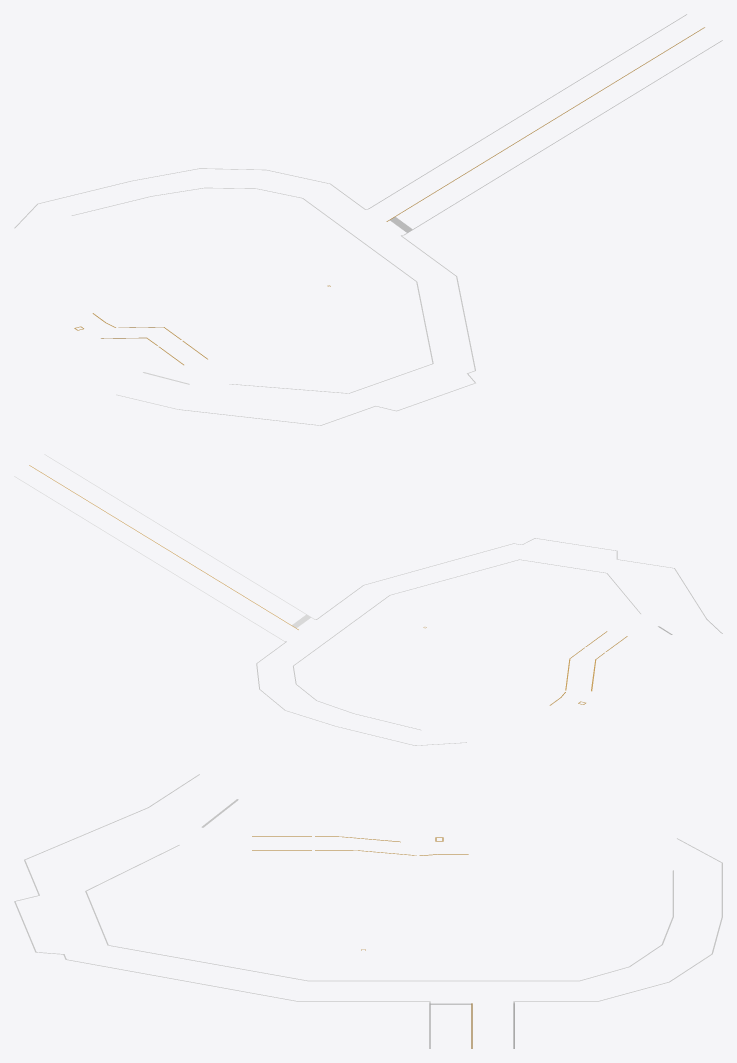
The model's file is kd_stage_13612f_3_6_bounded.glb.
3 renders of one model, top to bottom at view 1: azimuth 30°, elevation 25°; view 2: azimuth 150°, elevation 25°; view 3: azimuth 270°, elevation 25°, orthographic. The views are drawn at different scales.
Visible parts, largest first — view 1: kd_stage_13612f_3_6_bounded; view 2: kd_stage_13612f_3_6_bounded; view 3: kd_stage_13612f_3_6_bounded.
Part boxes in pixels (x1,y1,x2,y2): kd_stage_13612f_3_6_bounded: [14, 14, 722, 425]; kd_stage_13612f_3_6_bounded: [14, 454, 722, 745]; kd_stage_13612f_3_6_bounded: [14, 774, 722, 1048].
Bounding box in the file's own units: 68.68 × 12.6 × 50.56.
Materials: 1 (1 with a texture image).
